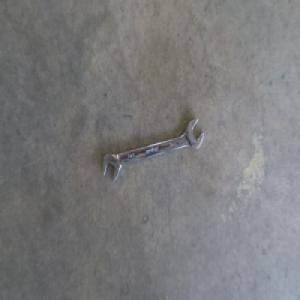Wrench: (101, 116, 204, 182)
